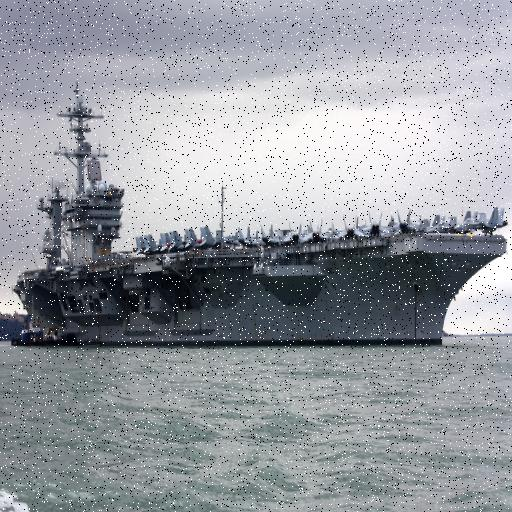Portanaves: (10, 78, 512, 351)
